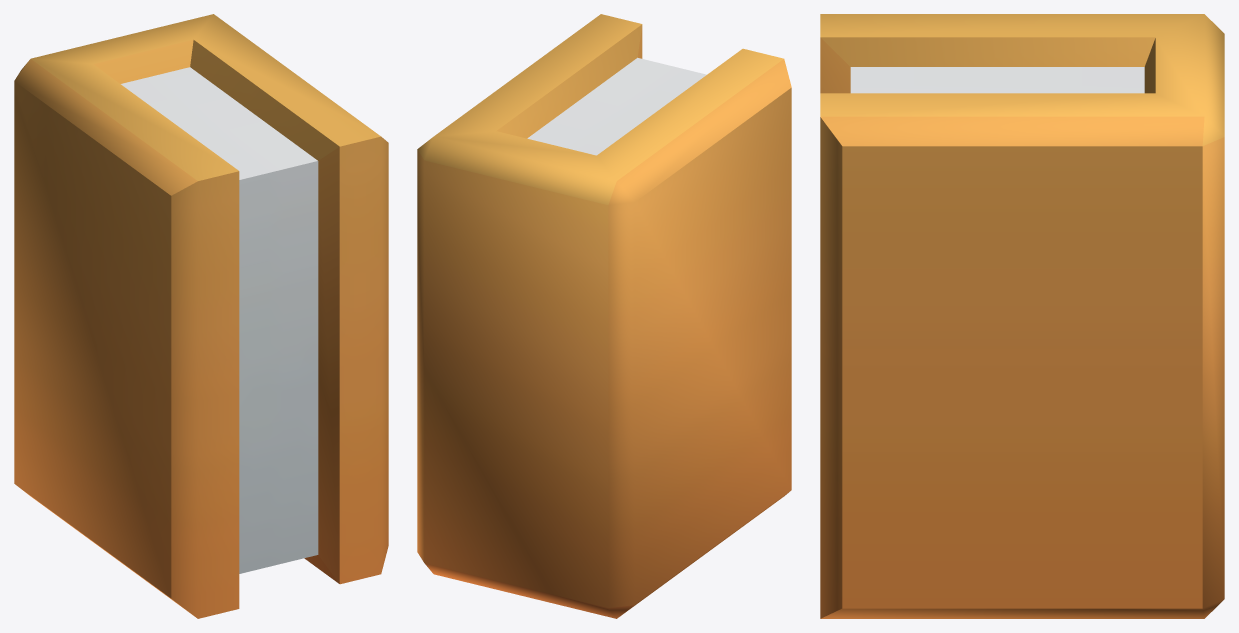
The model's file is kay-livro.gltf.
3 renders of one model, left to right at view 1: azimuth 30°, elevation 25°; view 2: azimuth 150°, elevation 25°; view 3: azimuth 270°, elevation 25°, orthographic. The views are drawn at different scales.
Visible parts, largest first — view 1: book_single; view 2: book_single; view 3: book_single.
Part boxes in pixels (box(x1,y1,x2,y2)): book_single: box(14, 14, 388, 618); book_single: box(417, 14, 791, 618); book_single: box(820, 14, 1224, 618).
Size of the model in its own units: 0.169 by 0.325 by 0.2372.
1 material, 1 textured.
